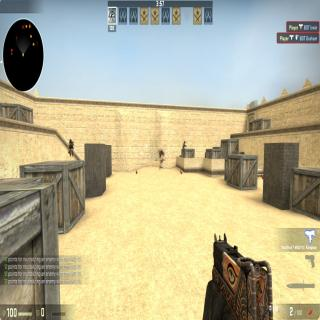CT-Body: (68, 138, 74, 157)
CT-Head: (69, 138, 72, 142)
T-Body: (182, 140, 186, 148)
T-Head: (183, 140, 186, 143)
